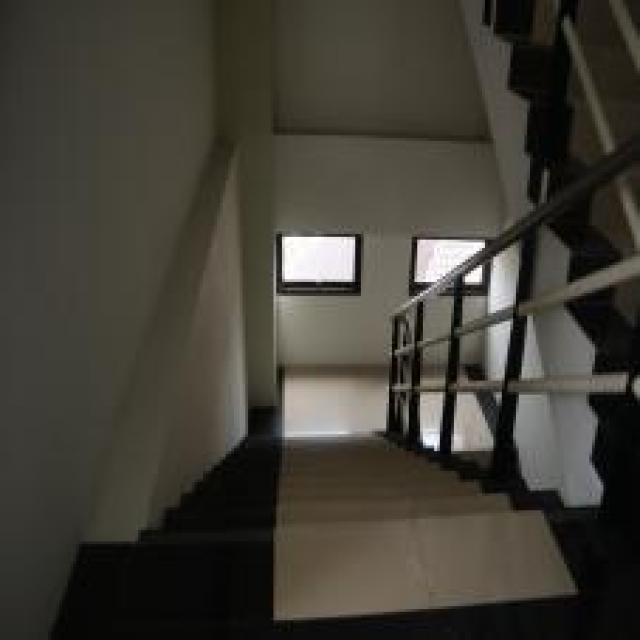downstair: (249, 450, 424, 602)
